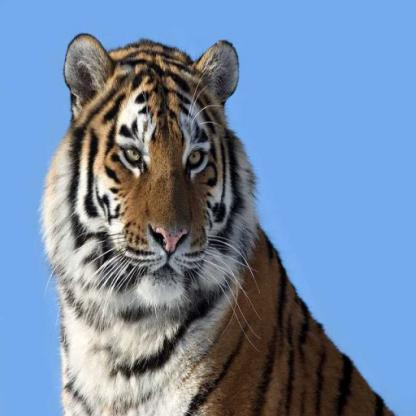Tiger: (36, 15, 403, 415)
